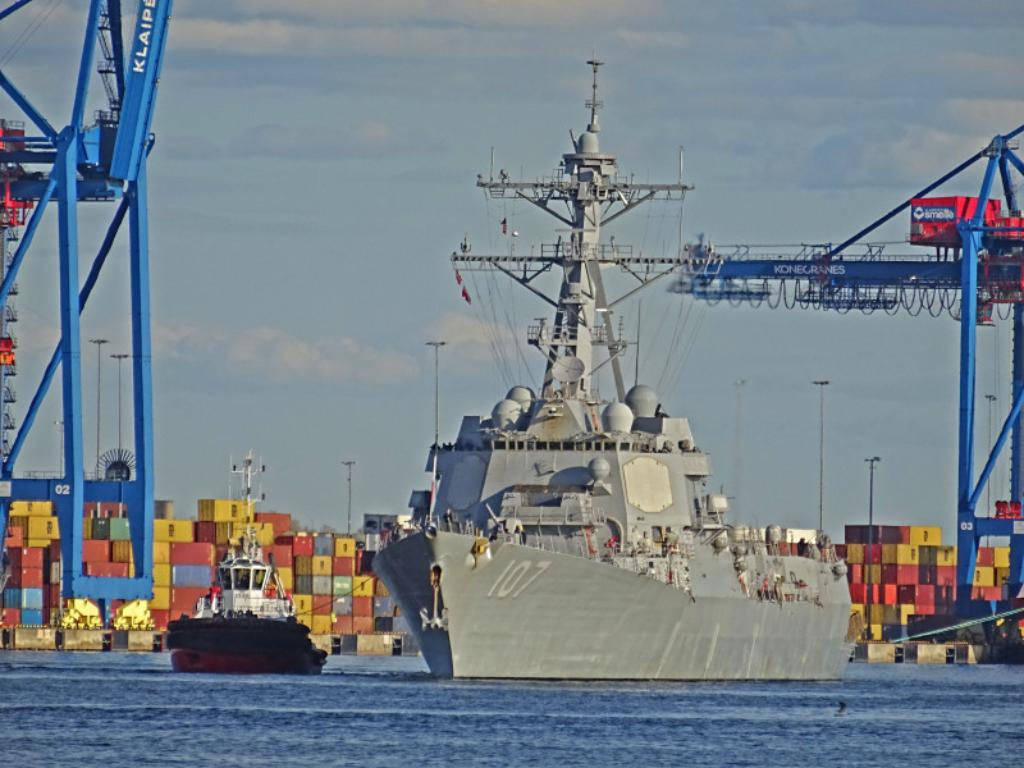Warship: (375, 52, 855, 682)
